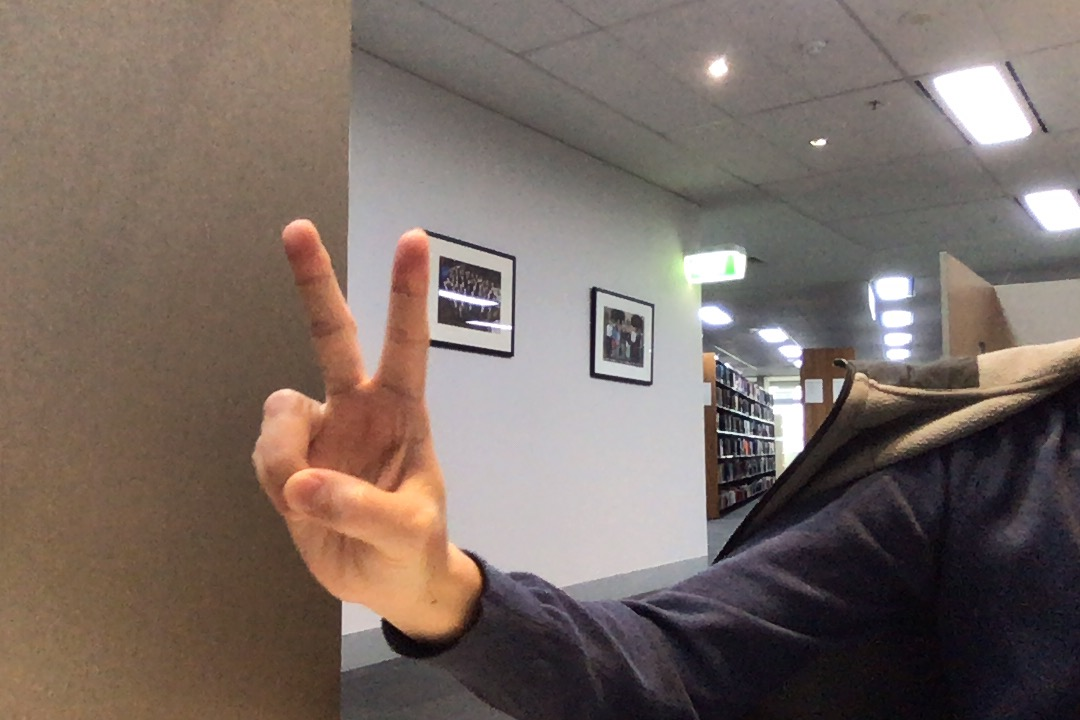peacesign: (232, 210, 465, 621)
